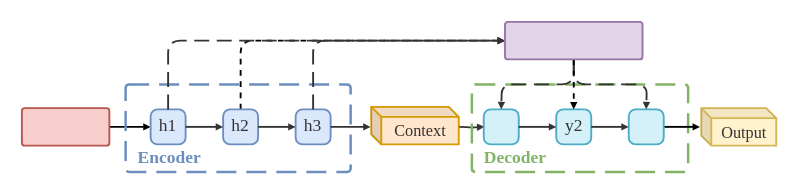
Some shapes in this 799 by 195 pixel diagram are drawn without their labels. The shapes that lost their labels are listed below. From the top down, each one's centre as x and y in pixels, then its label:
At (573,40): "Attention".
At (65,126): "Input Seq".
At (500,126): "y1".
At (645,126): "y3".
